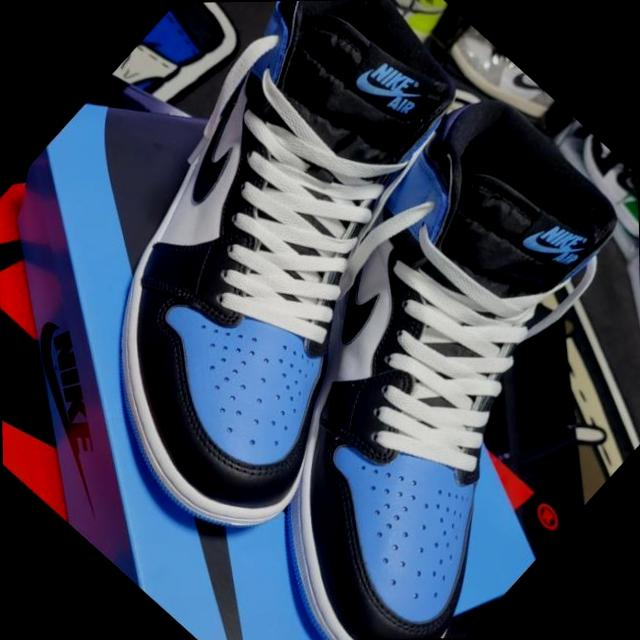nike_original_jordan: (0, 0, 591, 568), (115, 67, 640, 640)
